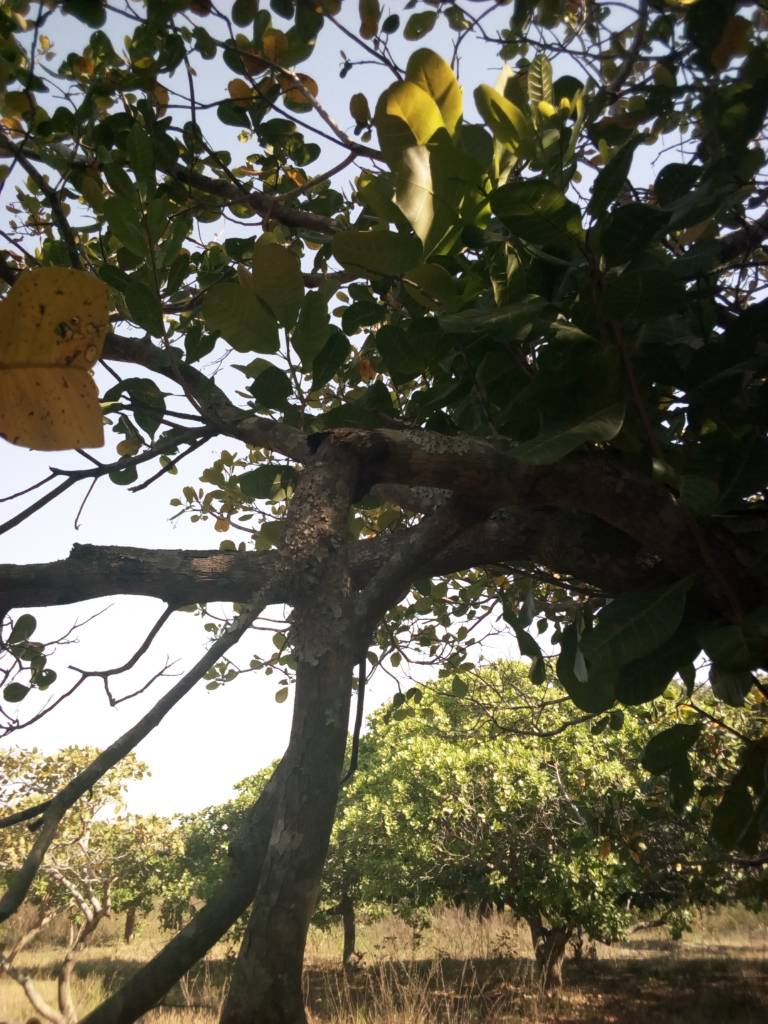Anthracnose: (1, 264, 113, 457)
